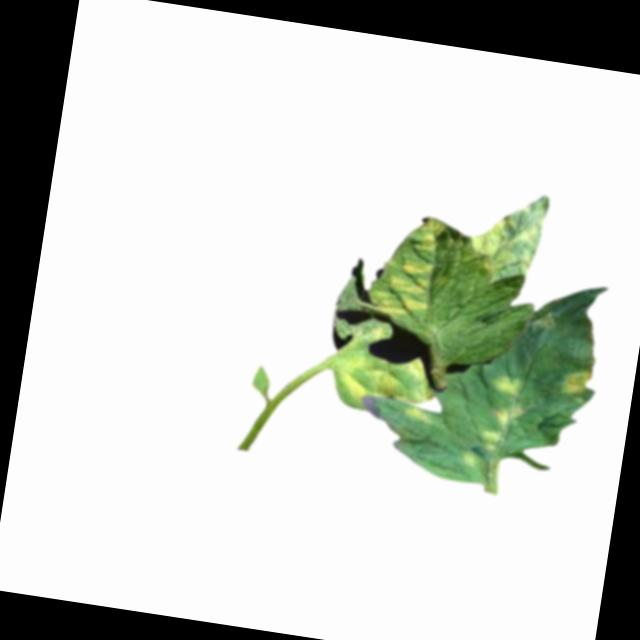Leaf_Mold: (362, 210, 444, 321), (327, 344, 438, 426), (462, 182, 549, 284), (464, 369, 526, 478), (556, 361, 593, 398)
